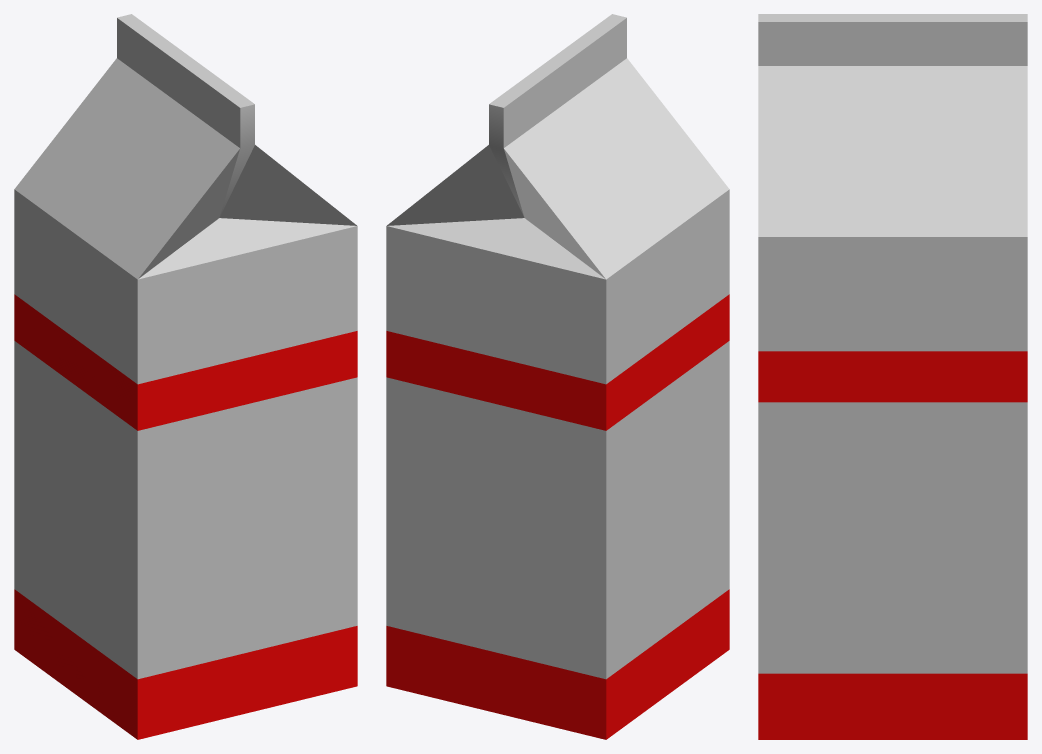
The model's file is milkcarton.FBX.
3 views of the same model, side by side, from view 1: azimuth 30°, elevation 25°; view 2: azimuth 150°, elevation 25°; view 3: azimuth 270°, elevation 25° (orthographic). The views are drawn at different scales.
Parts seen in each view (by area): view 1: MilkCarton; view 2: MilkCarton; view 3: MilkCarton.
Part boxes in pixels (x1=…): MilkCarton: x1=14, y1=14, x2=357, y2=739; MilkCarton: x1=386, y1=14, x2=729, y2=739; MilkCarton: x1=758, y1=14, x2=1027, y2=739.
Size of the model in its own units: 6.74 by 17.79 by 6.55.
